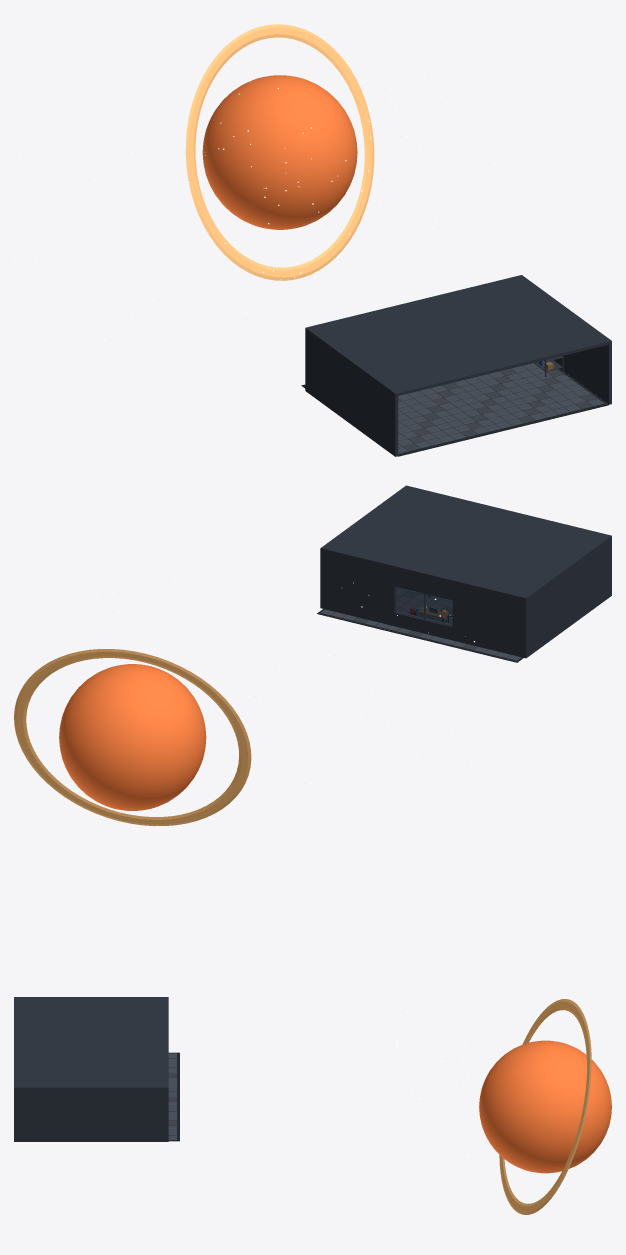
The model's file is useful.glb.
The picture shows the model from 3 angles, top to bottom: view 1: azimuth 30°, elevation 25°; view 2: azimuth 150°, elevation 25°; view 3: azimuth 270°, elevation 25°; orthographic projection. The views are drawn at different scales.
Visible parts, largest first — view 1: terrain_room, space_noshadow; view 2: terrain_room, space_noshadow; view 3: terrain_room, space_noshadow.
Part boxes in pixels (x1,y1,x2,y2): terrain_room: (301,275,611,456); space_noshadow: (14,14,501,355); terrain_room: (317,485,611,662); space_noshadow: (14,517,499,853); terrain_room: (14,997,179,1141); space_noshadow: (393,882,611,1240).
Size of the model in its own units: 47.36 by 25.8 by 63.
